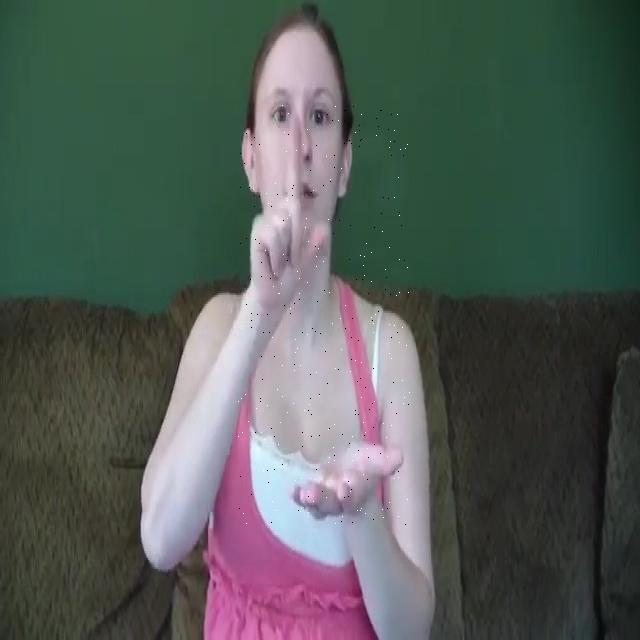chicken: (238, 103, 410, 526)
